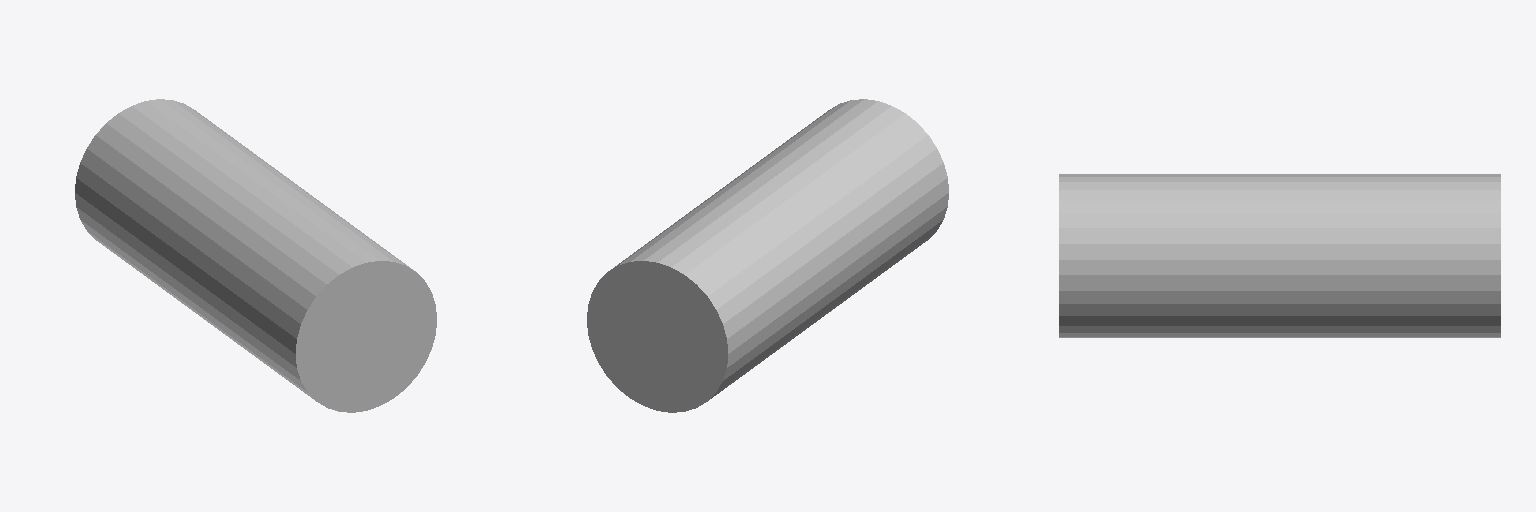
File: cilindro.obj
3 views of the same model, side by side, from view 1: azimuth 30°, elevation 25°; view 2: azimuth 150°, elevation 25°; view 3: azimuth 270°, elevation 25° (orthographic).
Visible parts, largest first — view 1: Cylinder.001; view 2: Cylinder.001; view 3: Cylinder.001.
Part boxes in pixels (bbox=[...]): Cylinder.001: bbox=[75, 99, 436, 412]; Cylinder.001: bbox=[587, 99, 948, 412]; Cylinder.001: bbox=[1059, 174, 1500, 337].
Size of the model in its own units: 0.1 by 0.1 by 0.27.